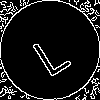L: (25, 25, 73, 78)
